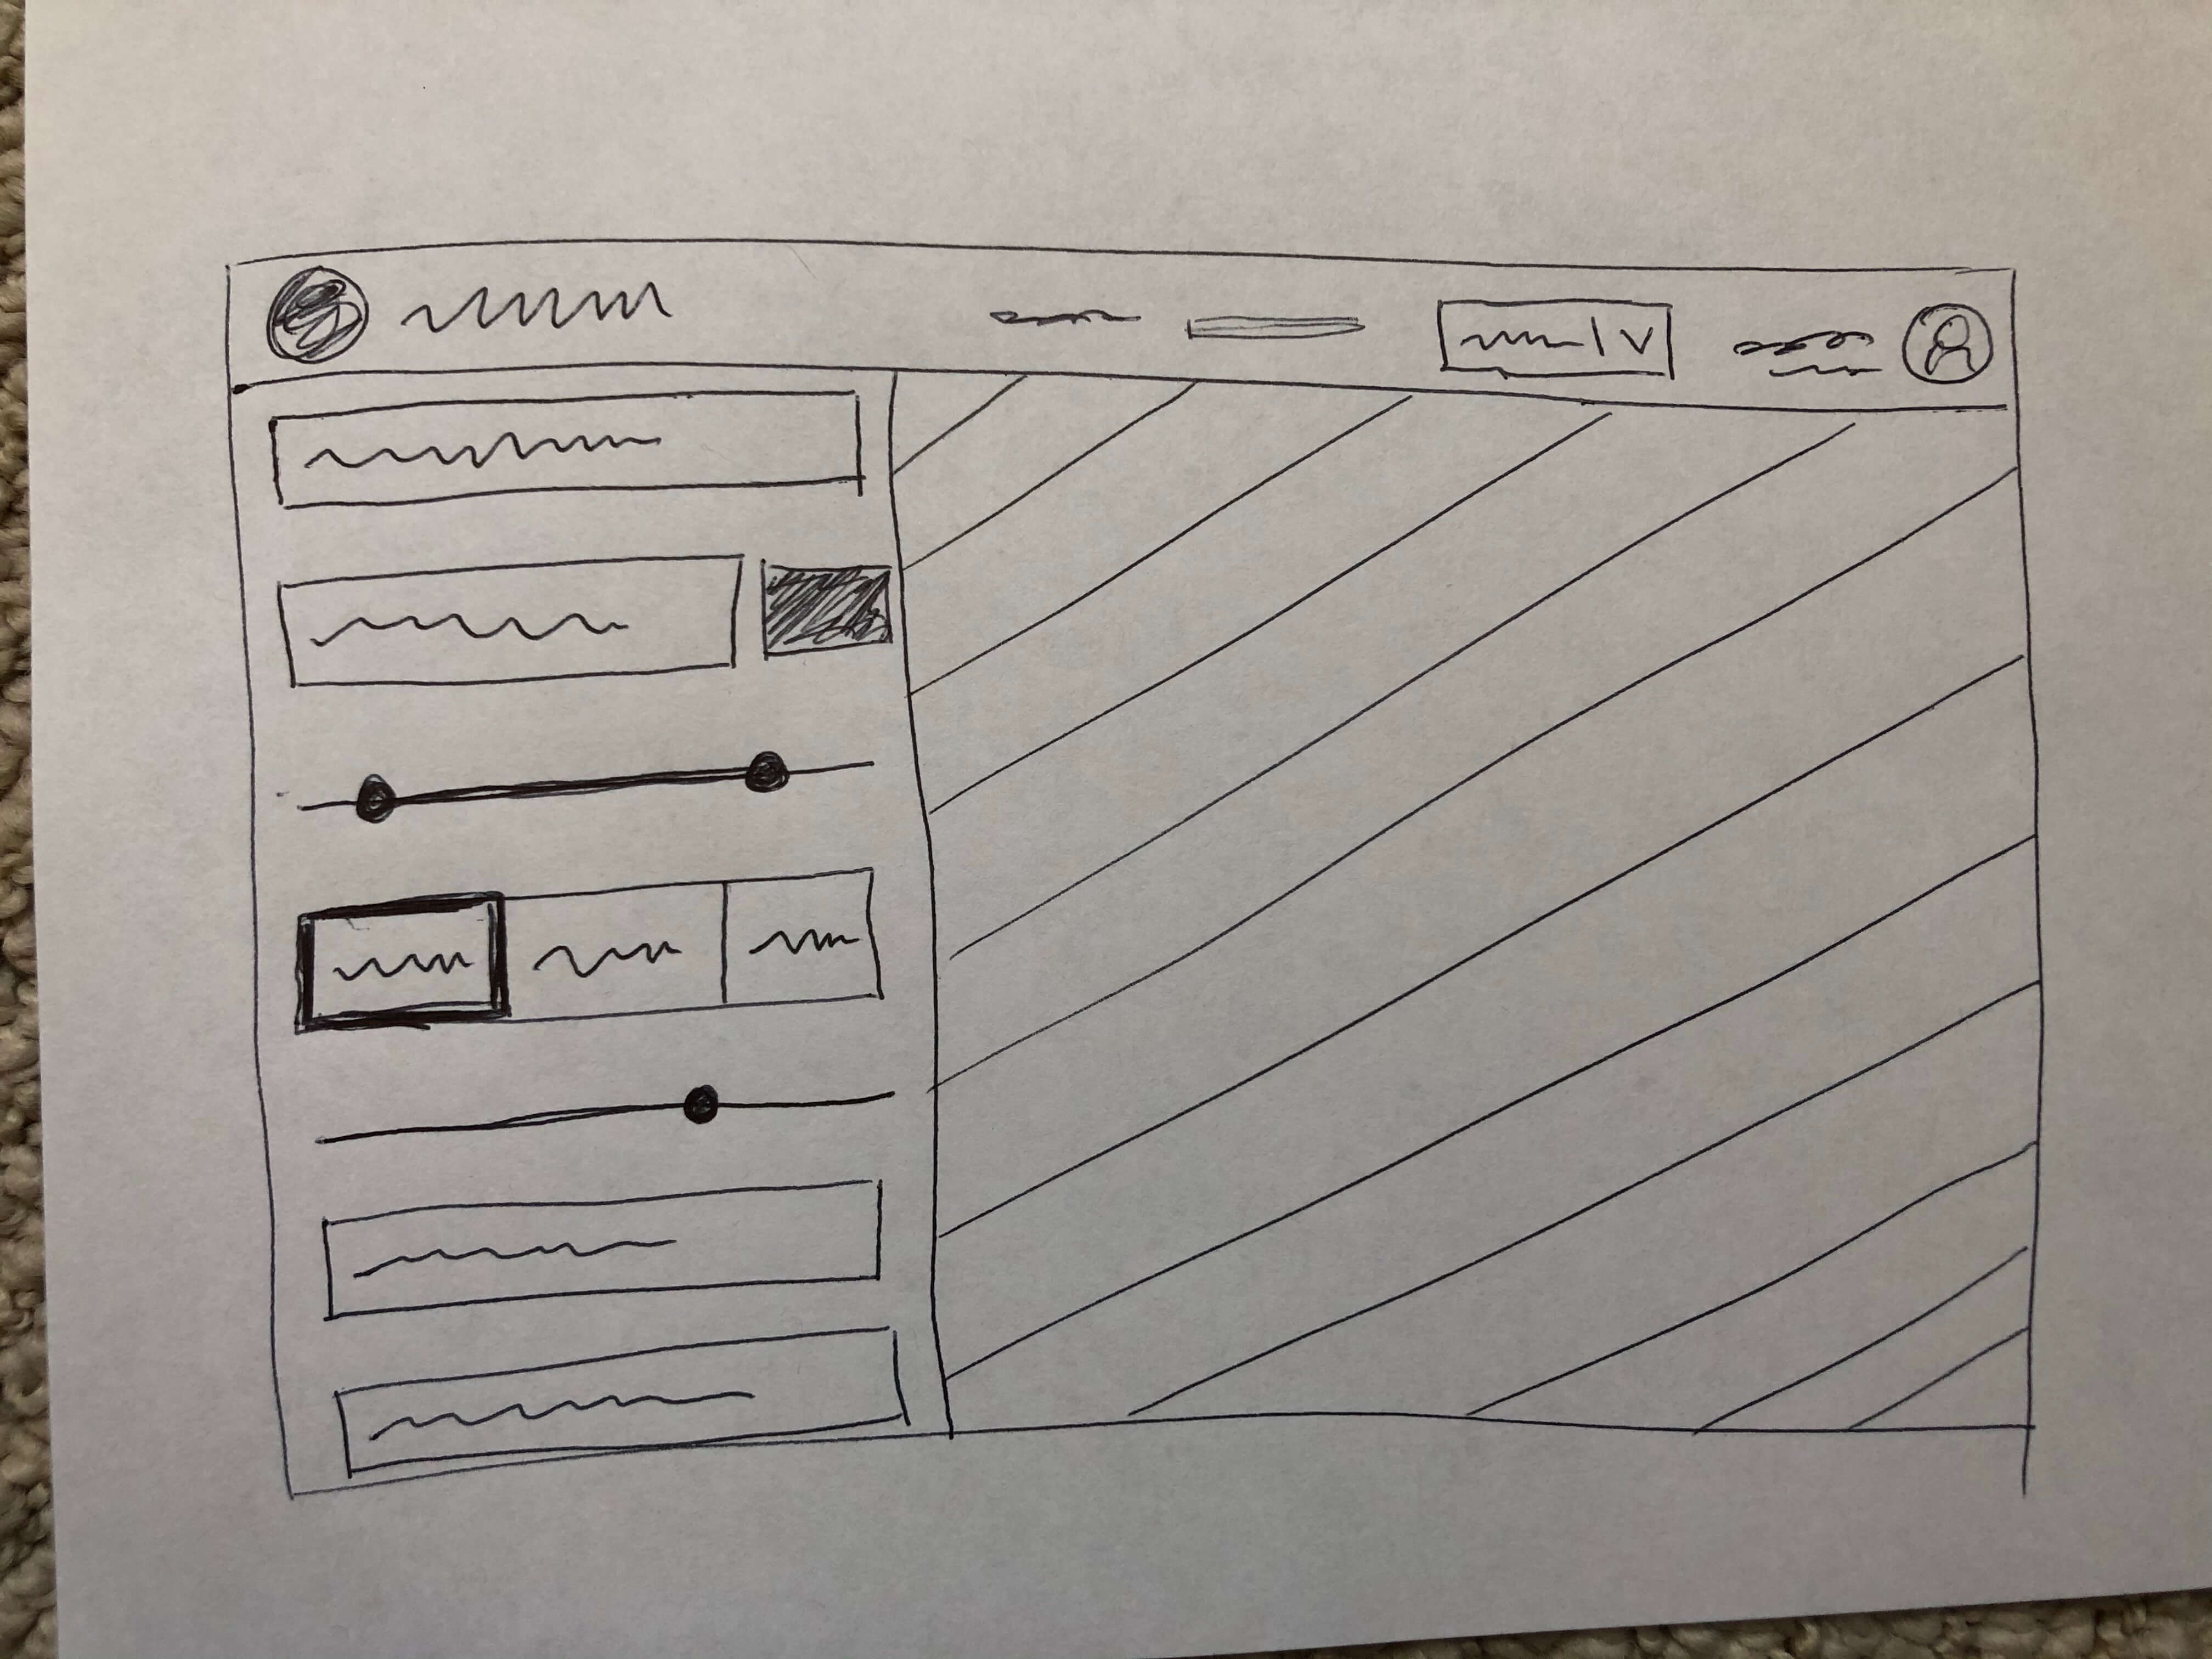avatar: (1723, 291, 2000, 397)
button: (752, 552, 900, 660)
input: (315, 1173, 899, 1321), (266, 390, 876, 512), (266, 549, 749, 690), (329, 1337, 916, 1448)
map: (888, 361, 2043, 1450)
radio-group: (289, 864, 899, 1049)
slider: (293, 741, 883, 838), (307, 1080, 900, 1154)
split-button: (1430, 286, 1684, 385)
